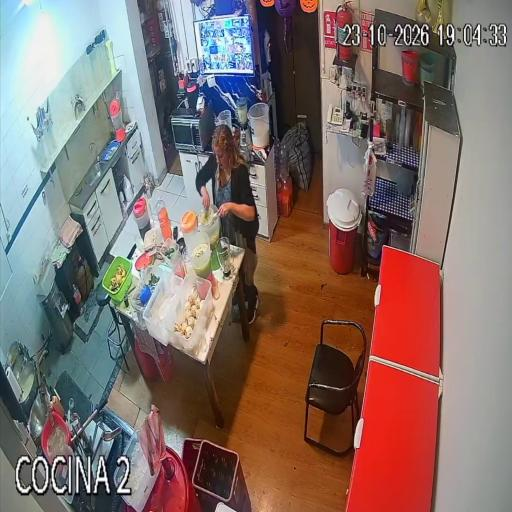Envase Llajua: (47, 395, 64, 417)
Jarra1: (133, 197, 150, 241)
Jarra2: (179, 210, 197, 244)
Jarra3: (218, 110, 231, 129)
Microondas: (171, 104, 214, 151)
Persona3: (196, 125, 259, 321)
Taper2: (130, 272, 154, 312)
Taper3: (143, 272, 183, 345)
Taper4: (163, 274, 214, 359)
